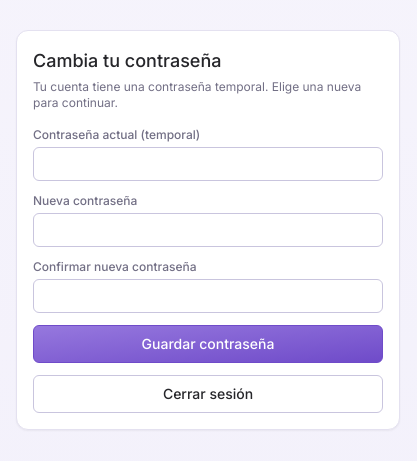
Test: ChangePasswordPage › shows the backend error message when the current password is wrong
Type "wrong" into the password field labelled "Contraseña actual (temporal)" at (208, 164), box [33,147,383,181]
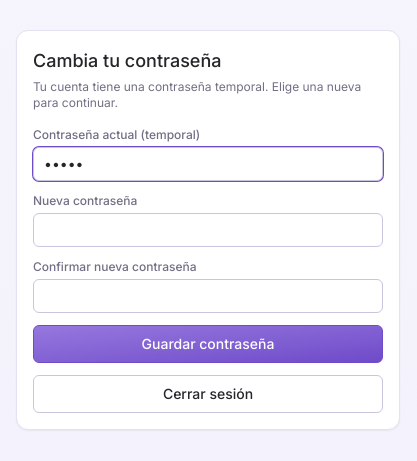
Type "NuevaSecreta1!" into the password field labelled "Nueva contraseña" at (208, 230), box [33,213,383,247]
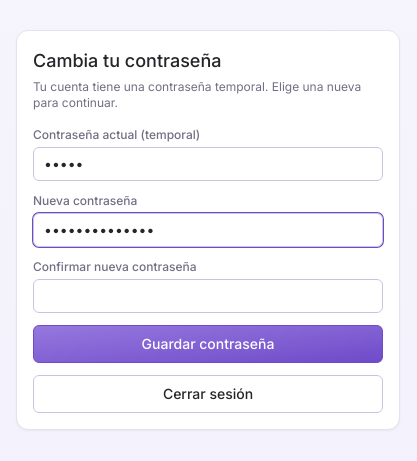
Type "NuevaSecreta1!" into the password field labelled "Confirmar nueva contraseña" at (208, 296), box [33,279,383,313]
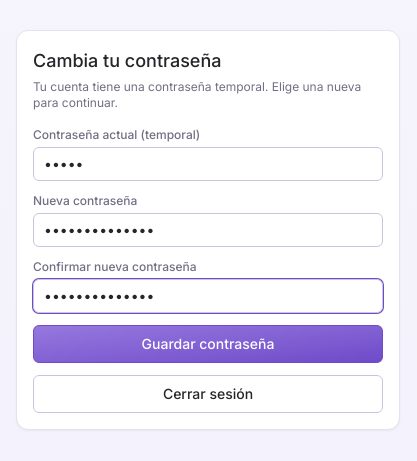
Click the button "Guardar contraseña" at (208, 344), box [33,325,383,363]
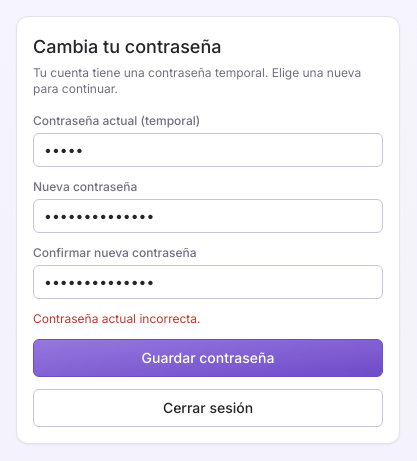
Result: the text "Contraseña actual incorrecta." is shown at [33,311,200,326]
